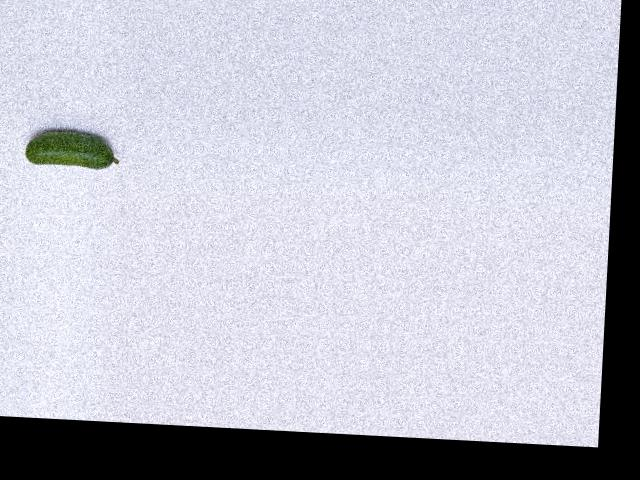cucumber: (24, 128, 120, 169)
